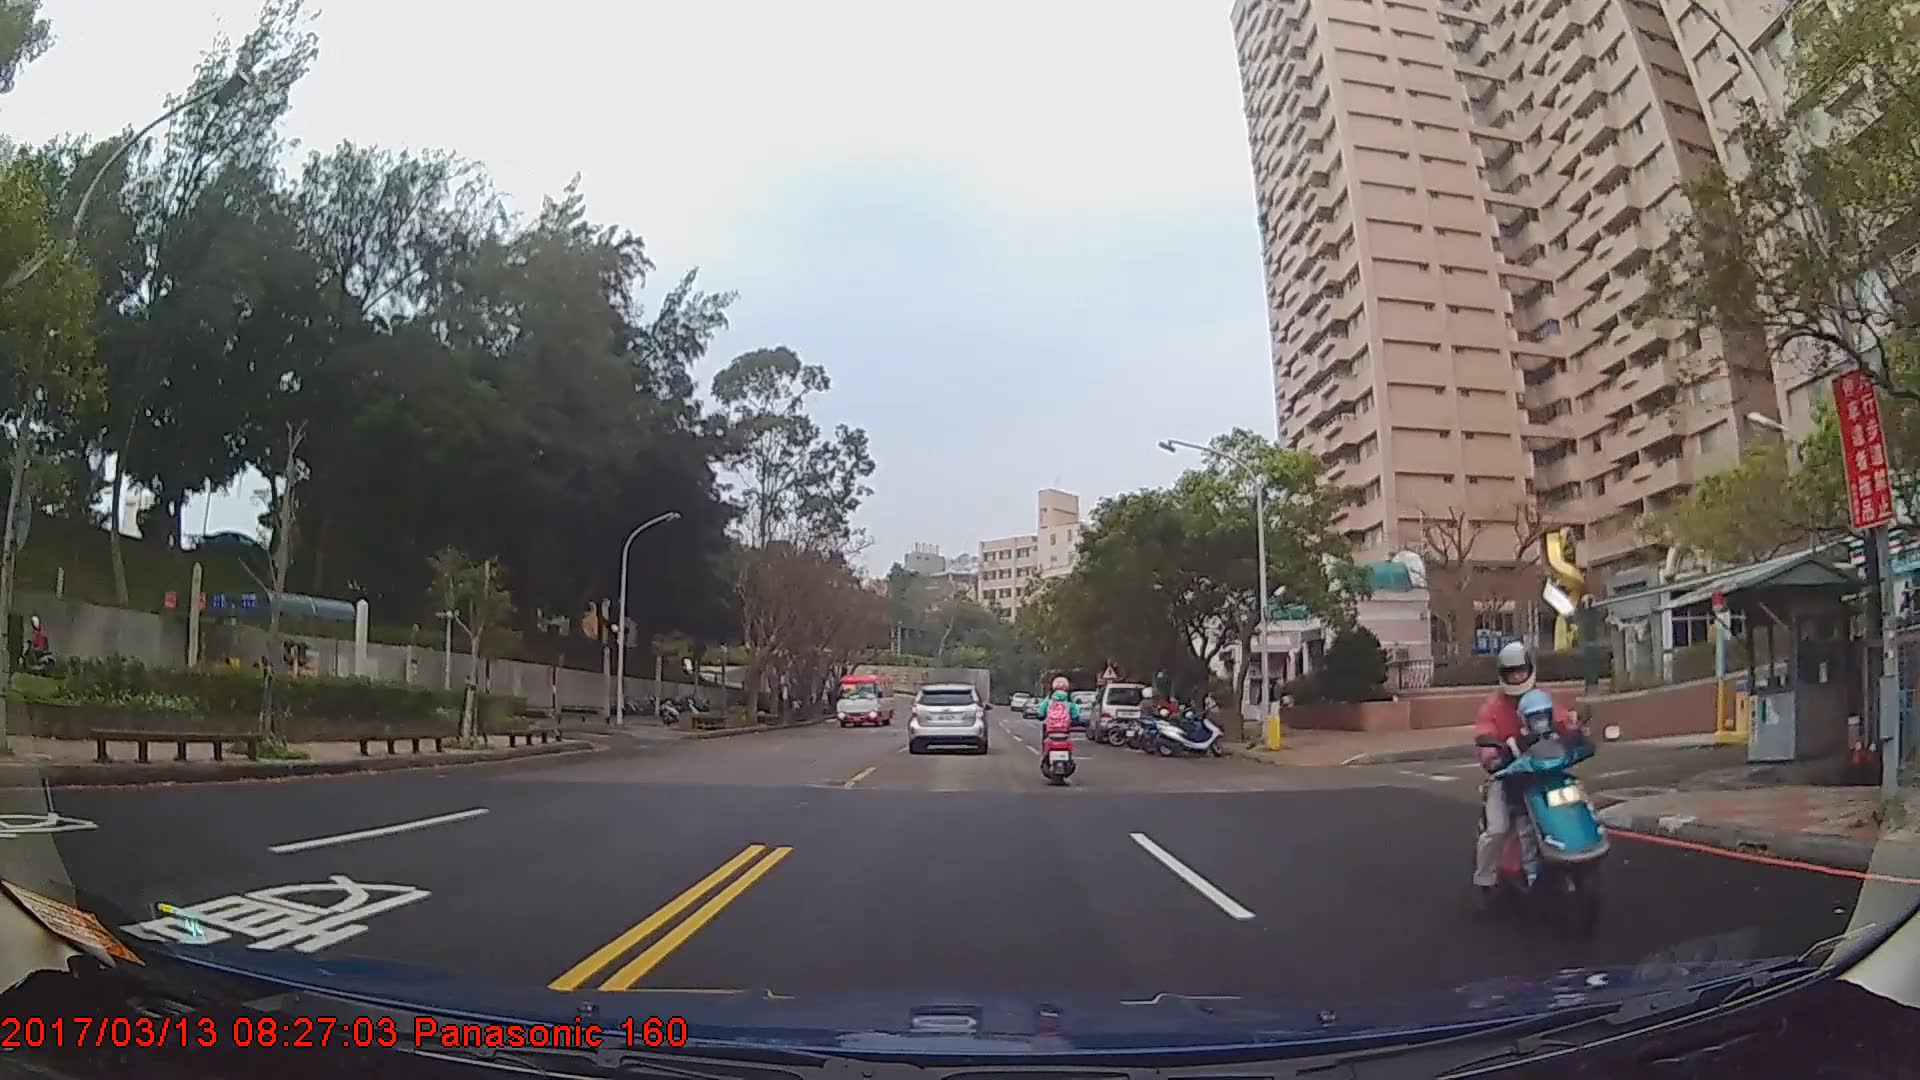rider: (1469, 635, 1606, 919), (1036, 664, 1081, 787), (1125, 685, 1167, 749)
vehicle: (907, 679, 987, 755), (1085, 679, 1147, 740), (833, 671, 895, 726)
